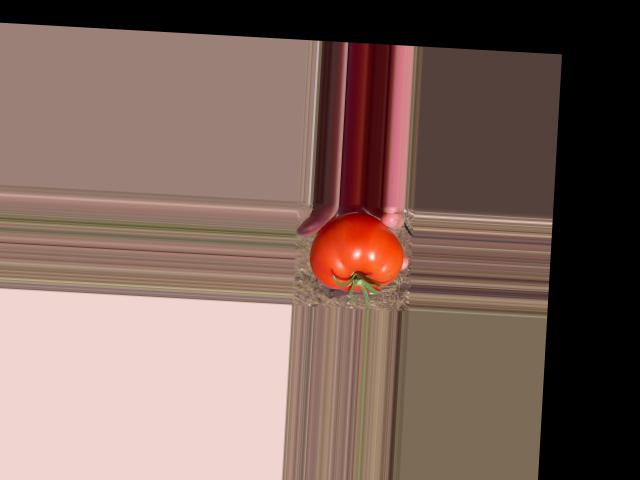tomato: (308, 210, 406, 294)
